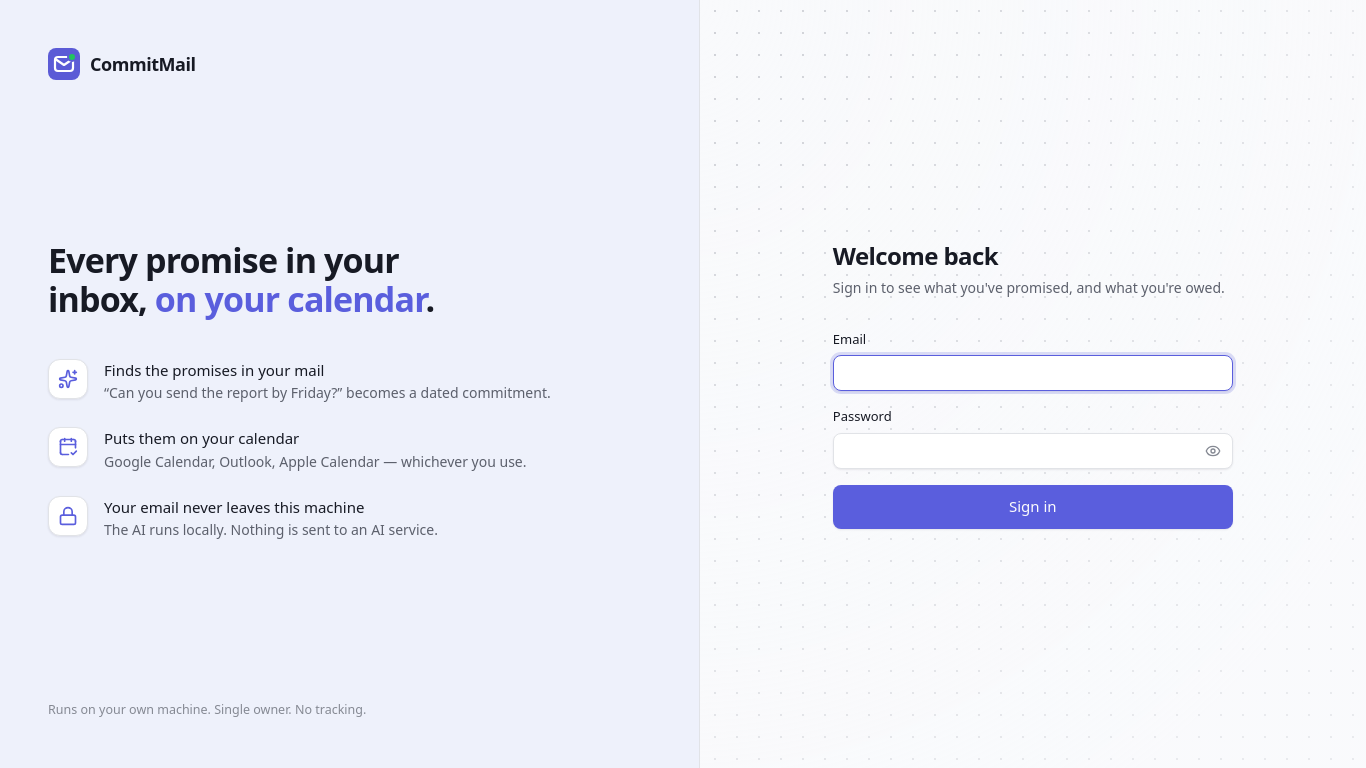
Test: sign in › shows the server's own message when sign-in fails
Type "owner@example.com" into the field labelled "Email" at (1033, 373), box [833,355,1233,391]
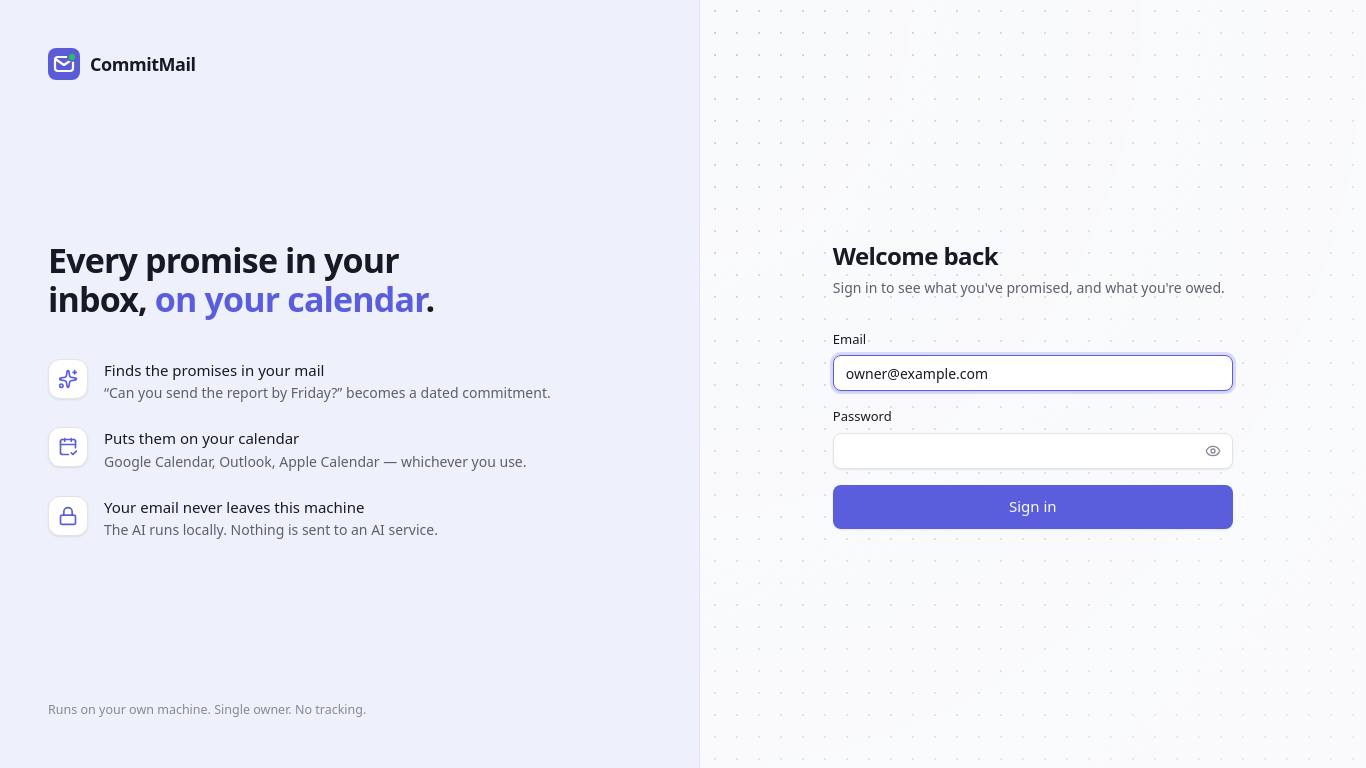
Type "wrong-password" into the password field labelled "Password" at (1033, 450), box [833,432,1233,468]
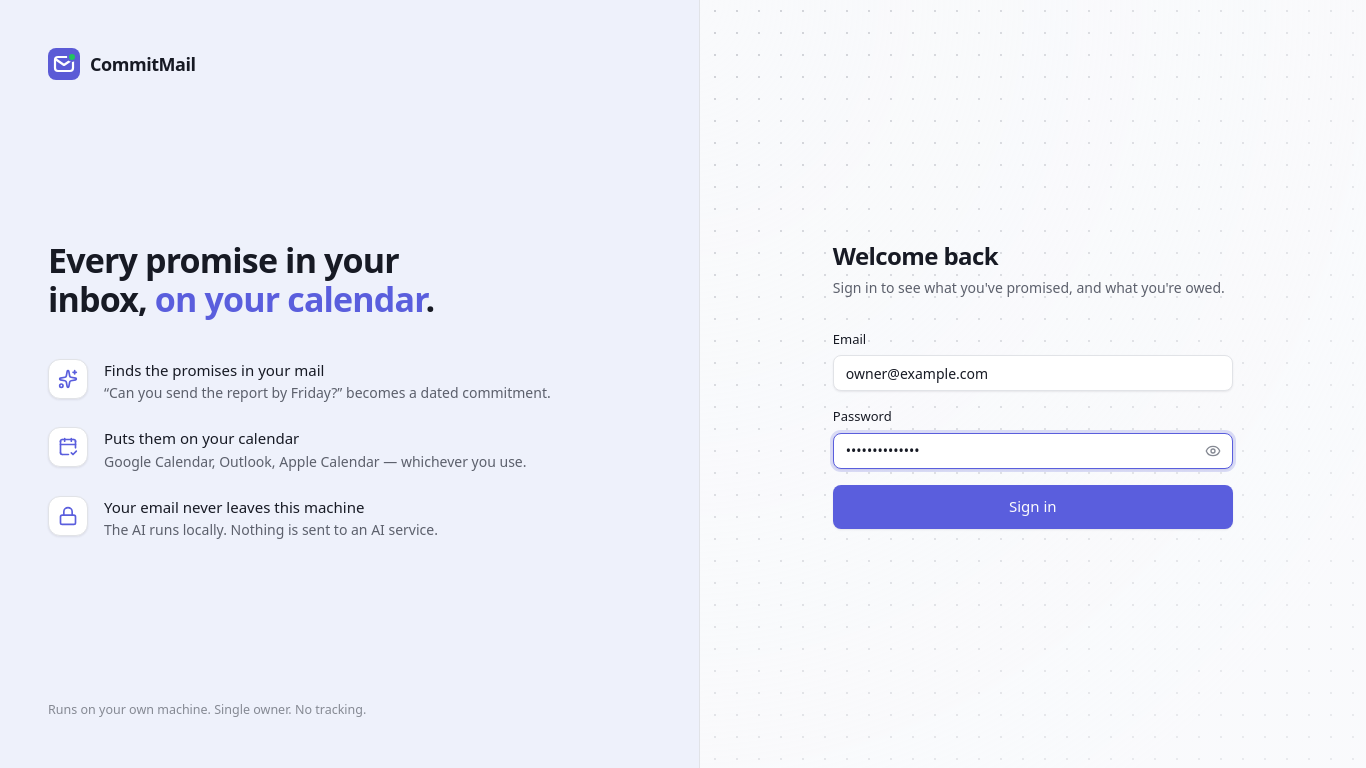
Click the button "Sign in" at (1033, 506), box [833,484,1233,528]
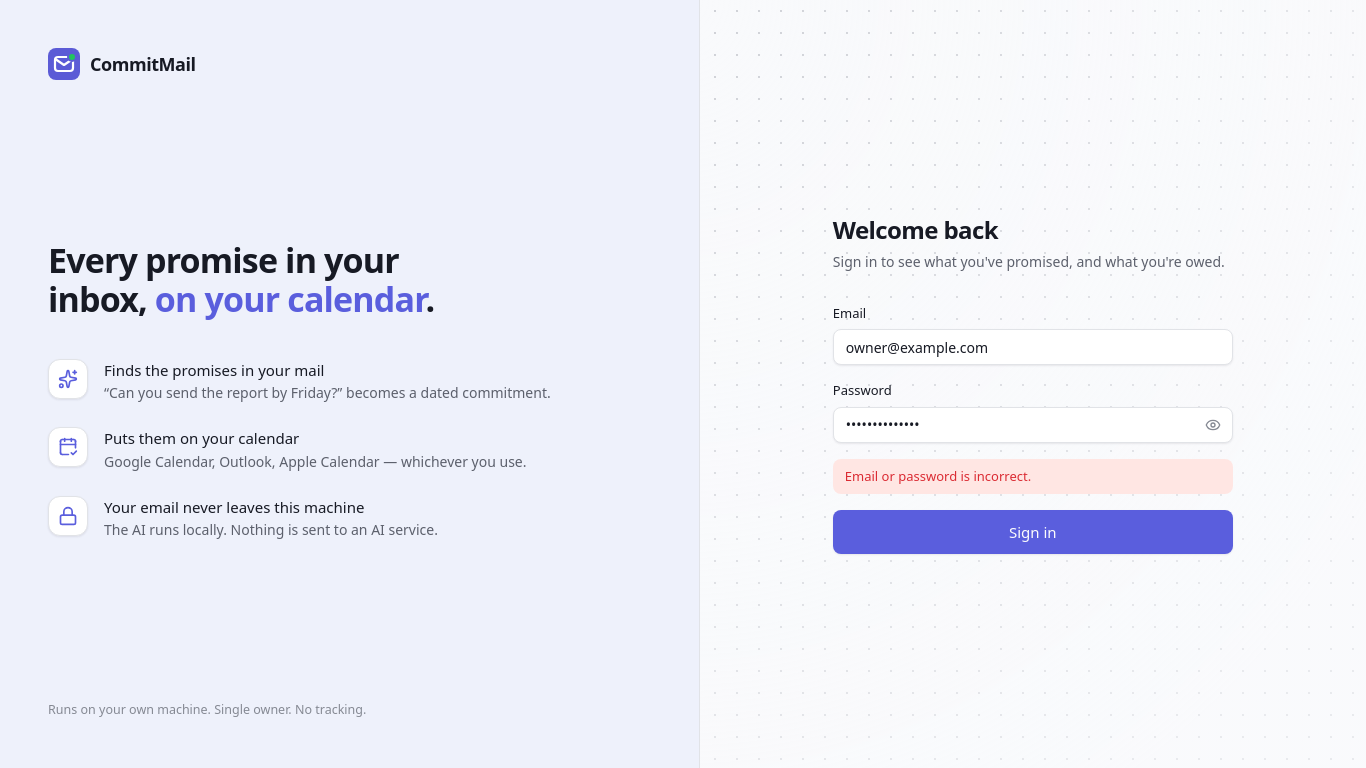
Check: the message reads "Email or password is incorrect.", box [845,467,1031,485]
